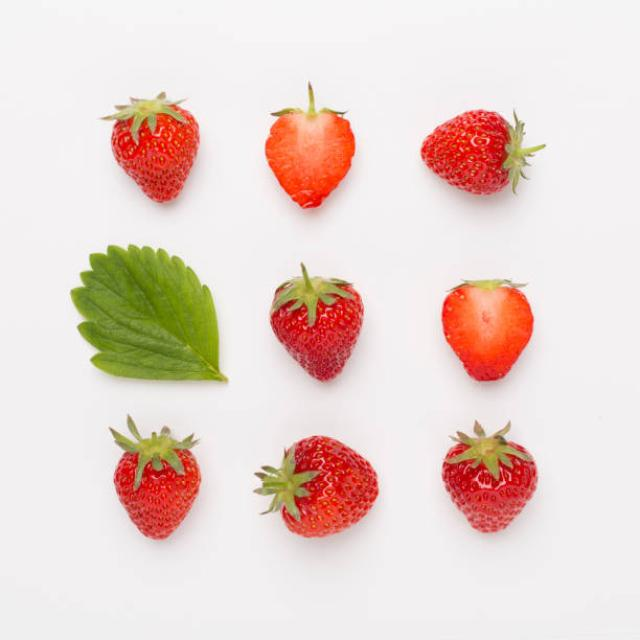Healthy Fruit: (279, 436, 379, 537), (271, 279, 363, 384), (440, 438, 540, 534), (109, 103, 201, 205), (113, 444, 202, 542), (418, 106, 514, 196)
